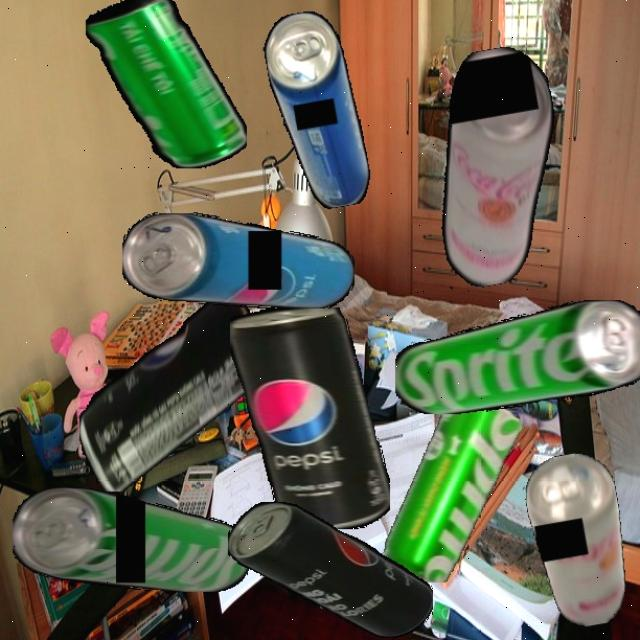debris: (413, 41, 582, 292), (78, 292, 266, 491), (229, 308, 390, 529), (394, 300, 640, 414), (227, 502, 433, 638), (382, 386, 522, 582), (85, 0, 247, 168), (12, 486, 249, 592), (260, 7, 374, 215), (123, 211, 354, 309), (520, 448, 638, 632)
